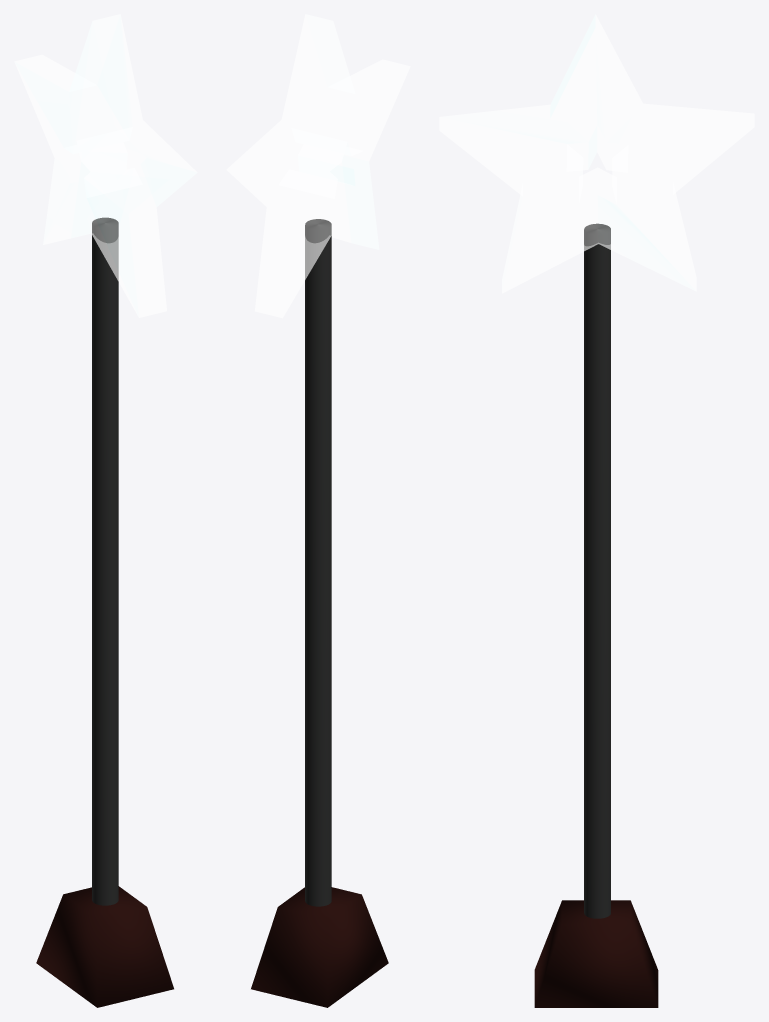
The model's file is poste_estrella.glb.
3 renders of one model, left to right at view 1: azimuth 30°, elevation 25°; view 2: azimuth 150°, elevation 25°; view 3: azimuth 270°, elevation 25°, orthographic.
Parts seen in each view (by area): view 1: Circle.017, Cilindro, Cubo.009; view 2: Circle.017, Cilindro, Cubo.009; view 3: Circle.017, Cilindro, Cubo.009.
Boxes of the visible parts, bbox=[...] form: Circle.017: bbox=[14, 14, 197, 317]; Cilindro: bbox=[92, 217, 118, 905]; Cubo.009: bbox=[36, 886, 173, 1007]; Circle.017: bbox=[226, 14, 410, 318]; Cilindro: bbox=[305, 219, 331, 906]; Cubo.009: bbox=[251, 887, 388, 1007]; Circle.017: bbox=[439, 14, 754, 293]; Cilindro: bbox=[584, 223, 610, 918]; Cubo.009: bbox=[534, 900, 658, 1007].
Size of the model in its own units: 2 by 23.81 by 7.02.
